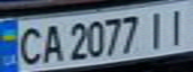0: (84, 17, 109, 59)
2: (63, 18, 90, 61)
7: (118, 11, 145, 54), (103, 15, 127, 56)
A: (36, 21, 66, 64)
C: (12, 24, 45, 66)
I: (160, 3, 193, 46), (142, 7, 172, 50)
